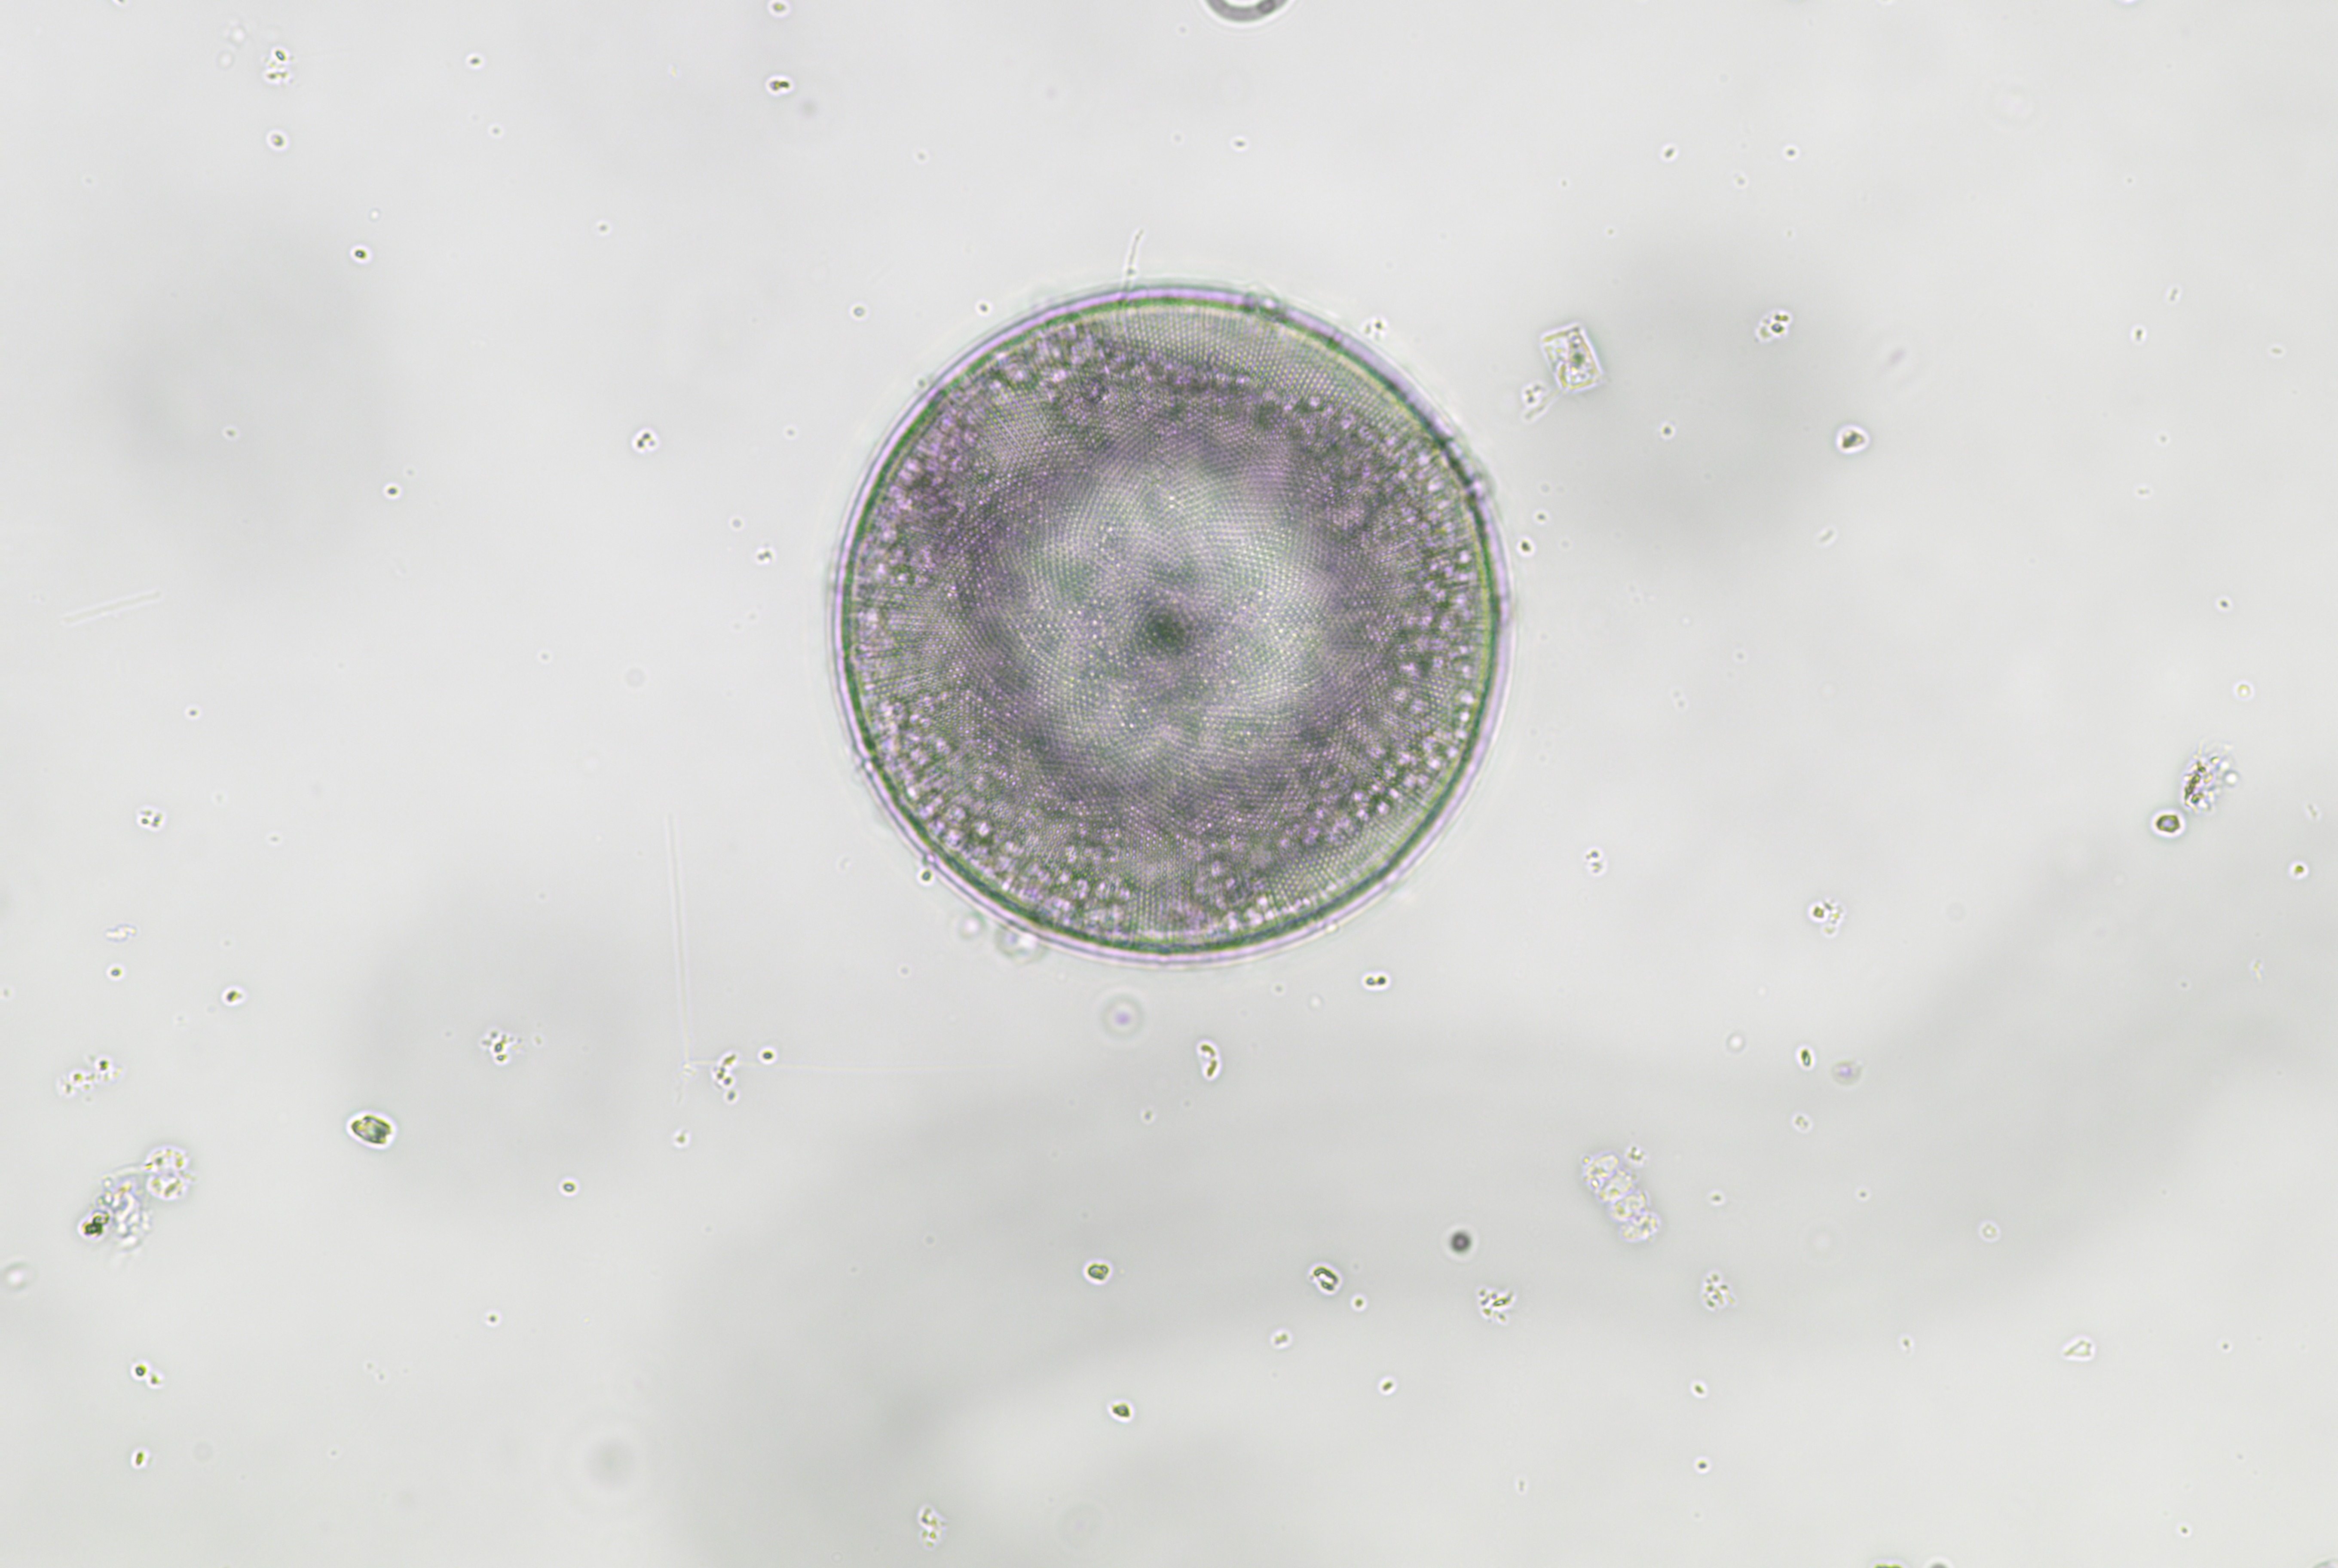coscinodiscus: (824, 289, 1524, 976)
